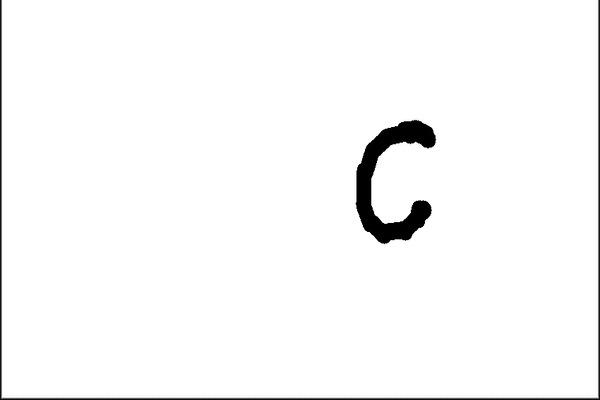C: (348, 114, 440, 248)
